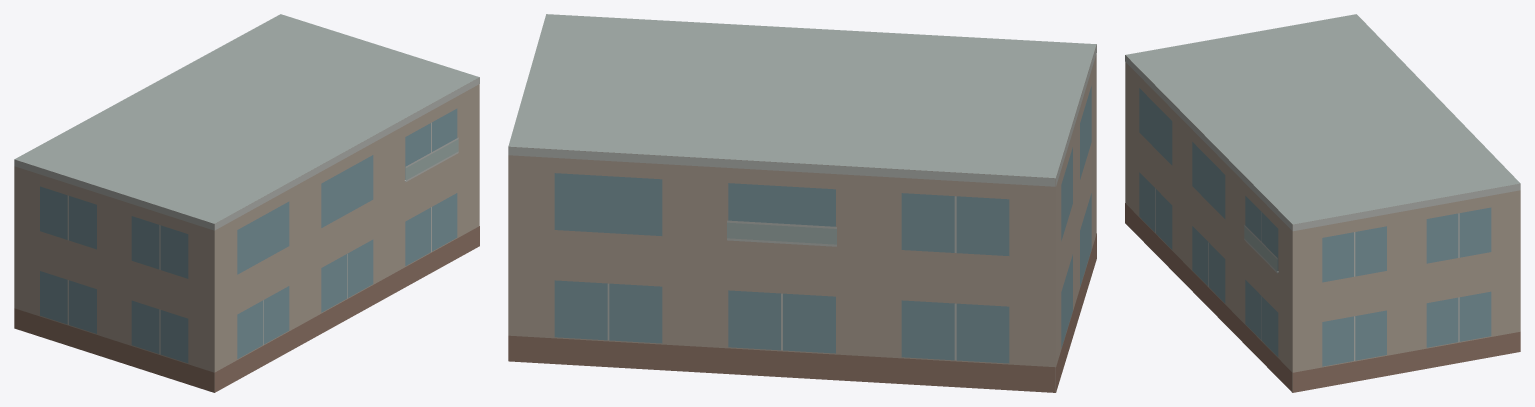
The model's file is survey-upis-32949902.glb.
3 views of the same model, side by side, from view 1: azimuth 30°, elevation 25°; view 2: azimuth 150°, elevation 25°; view 3: azimuth 270°, elevation 25° (orthographic). The views are drawn at different scales.
Visible parts, largest first — view 1: survey-upis-32949902.tmp; view 2: survey-upis-32949902.tmp; view 3: survey-upis-32949902.tmp.
Part boxes in pixels (<box>): survey-upis-32949902.tmp: <box>14,14,479,392</box>; survey-upis-32949902.tmp: <box>508,14,1096,392</box>; survey-upis-32949902.tmp: <box>1125,14,1520,392</box>.
Size of the model in its own units: 16.38 by 6.1 by 13.
